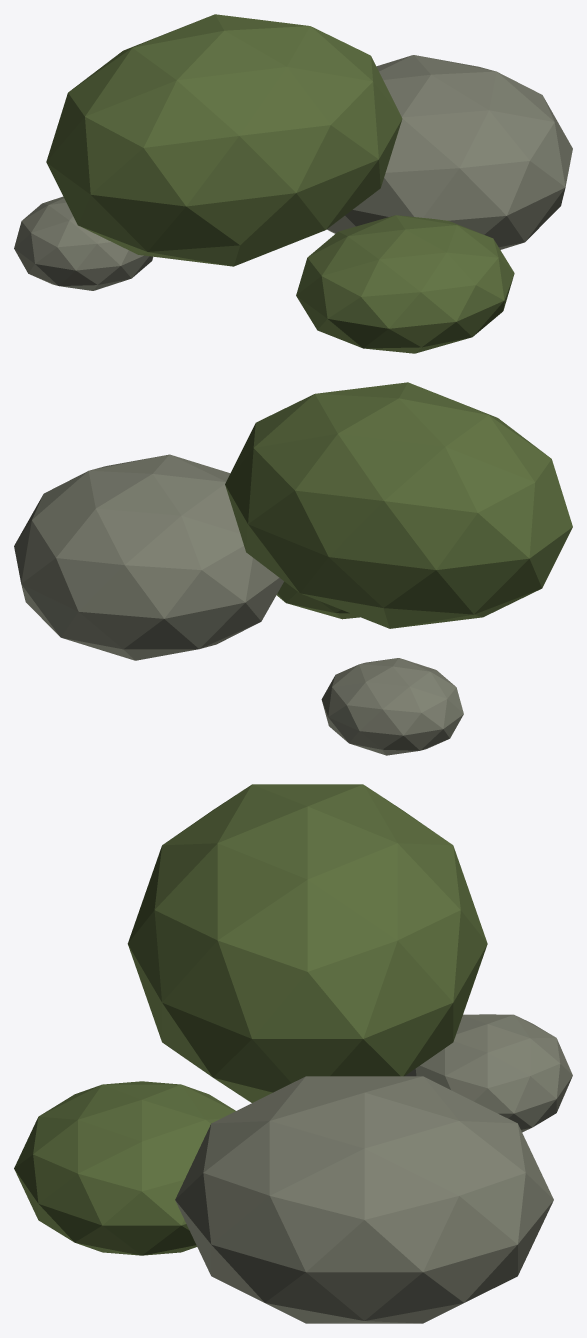
Rendered from source-edit.glb.
3 views of the same model, one above another, from view 1: azimuth 30°, elevation 25°; view 2: azimuth 150°, elevation 25°; view 3: azimuth 270°, elevation 25° (orthographic). The views are drawn at different scales.
Visible parts, largest first — view 1: ROCK_0, ROCK_1, ROCK_2, ROCK_3; view 2: ROCK_0, ROCK_1, ROCK_3, ROCK_2; view 3: ROCK_0, ROCK_1, ROCK_2, ROCK_3.
Boxes of the visible parts, x1=… form: ROCK_0: x1=46, y1=14, x2=402, y2=266; ROCK_1: x1=327, y1=55, x2=572, y2=249; ROCK_2: x1=296, y1=215, x2=514, y2=353; ROCK_3: x1=14, y1=196, x2=153, y2=290; ROCK_0: x1=225, y1=382, x2=572, y2=628; ROCK_1: x1=14, y1=454, x2=283, y2=660; ROCK_3: x1=321, y1=658, x2=463, y2=755; ROCK_2: x1=276, y1=581, x2=359, y2=619; ROCK_0: x1=127, y1=784, x2=487, y2=1102; ROCK_1: x1=175, y1=1076, x2=553, y2=1323; ROCK_2: x1=14, y1=1081, x2=235, y2=1255; ROCK_3: x1=405, y1=1014, x2=572, y2=1132.
Bounding box in the file's own units: 1.54 × 0.84 × 1.18.
